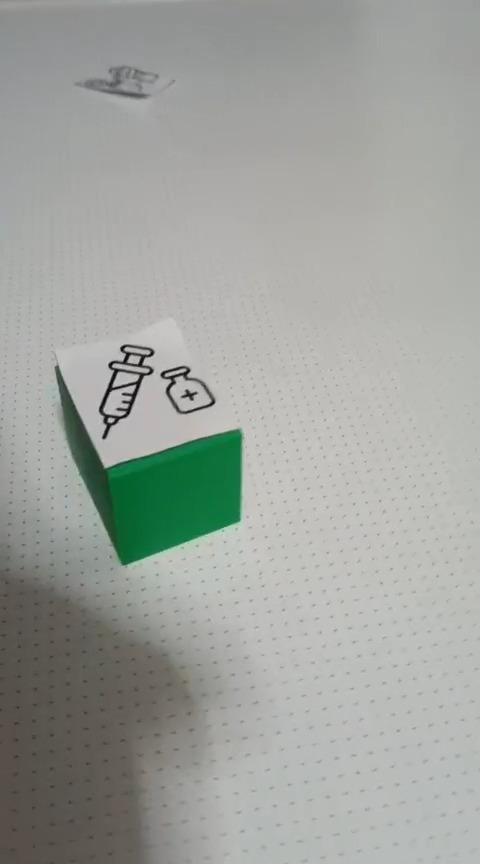antiseptic cream: (52, 315, 245, 566)
